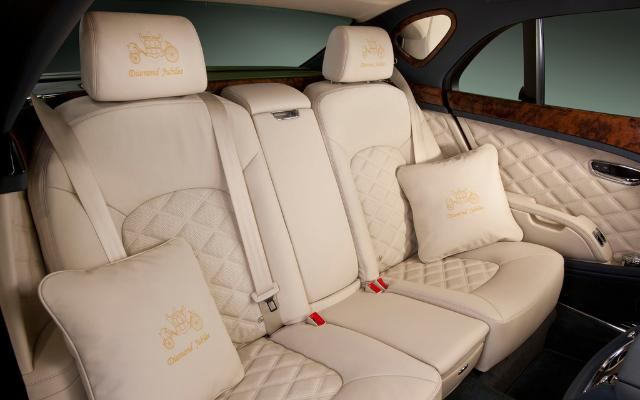Seatbelt: (199, 90, 277, 340), (29, 91, 129, 263), (392, 71, 422, 163)
